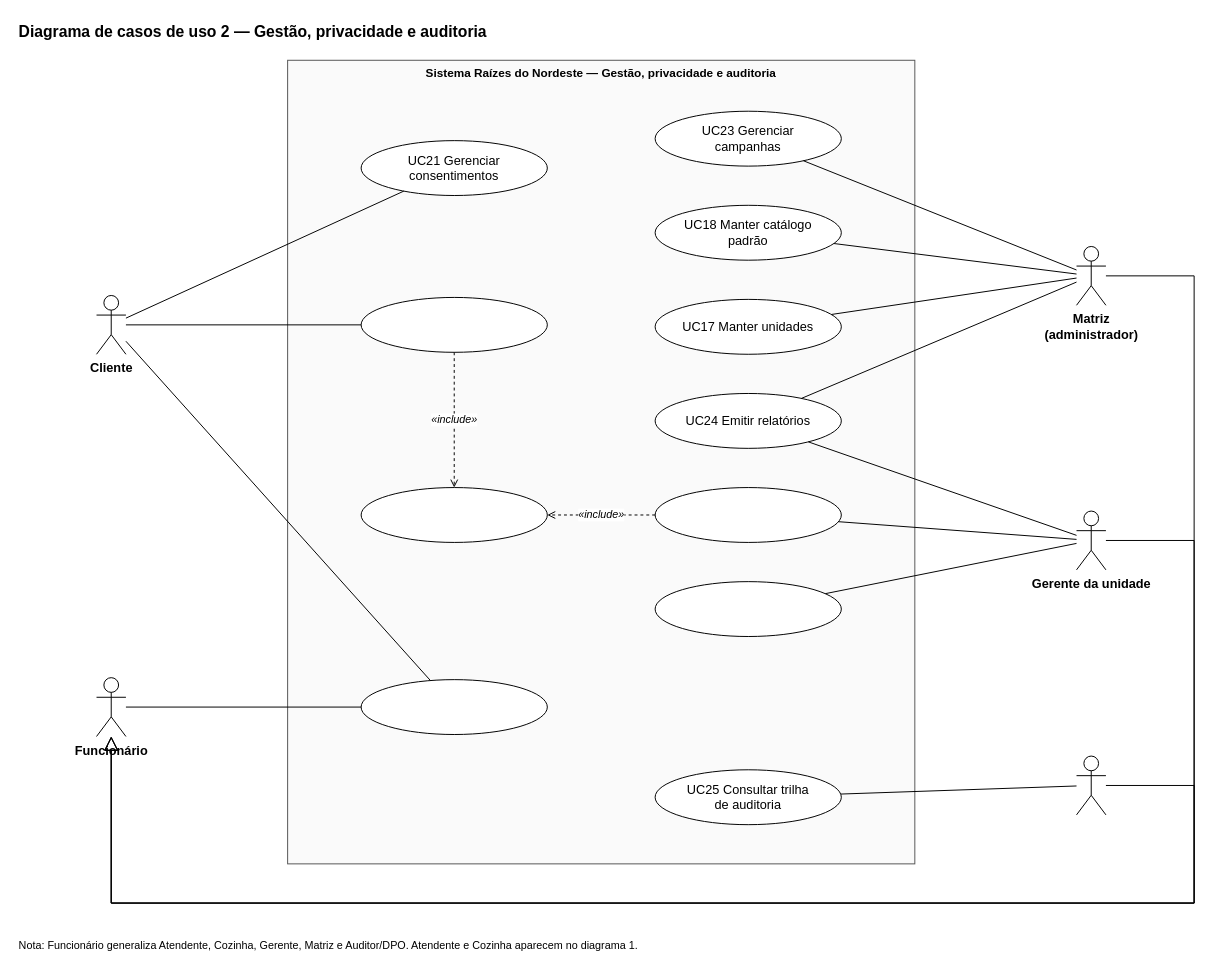
The diagram is 1225 pixels wide and 978 high, and some of its shapes have lost their labels. The shapes that lost their labels are listed below. From the top down, each one's box as (x1, y1, x2, y2) in pixels, then its label:
(360, 296, 547, 352): UC22 Exercer direitos do titular
(360, 487, 547, 542): UC15 Registrar auditoria
(654, 487, 841, 542): UC20 Movimentar estoque
(654, 581, 841, 637): UC19 Configurar cardápio da unidade
(360, 679, 547, 735): UC16 Autenticar-se
(1076, 755, 1106, 815): Auditor / DPO
